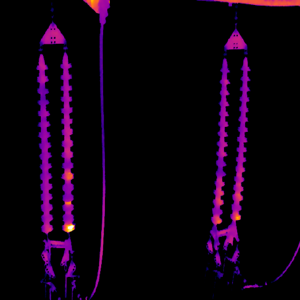insulator: (228, 55, 250, 223), (210, 59, 229, 223), (36, 52, 52, 233), (60, 49, 75, 233)
